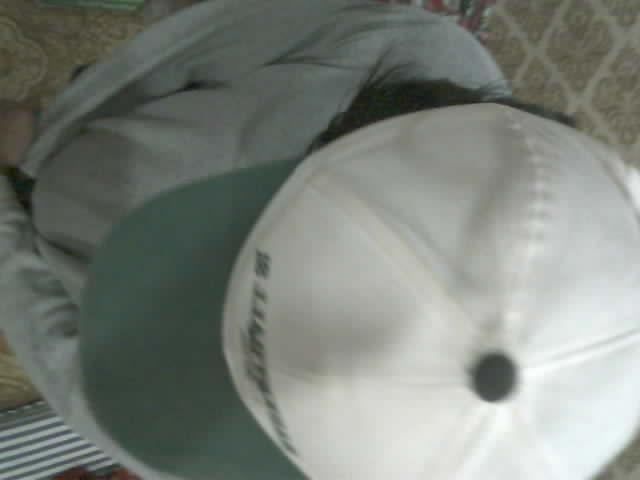cap: (78, 101, 639, 479)
